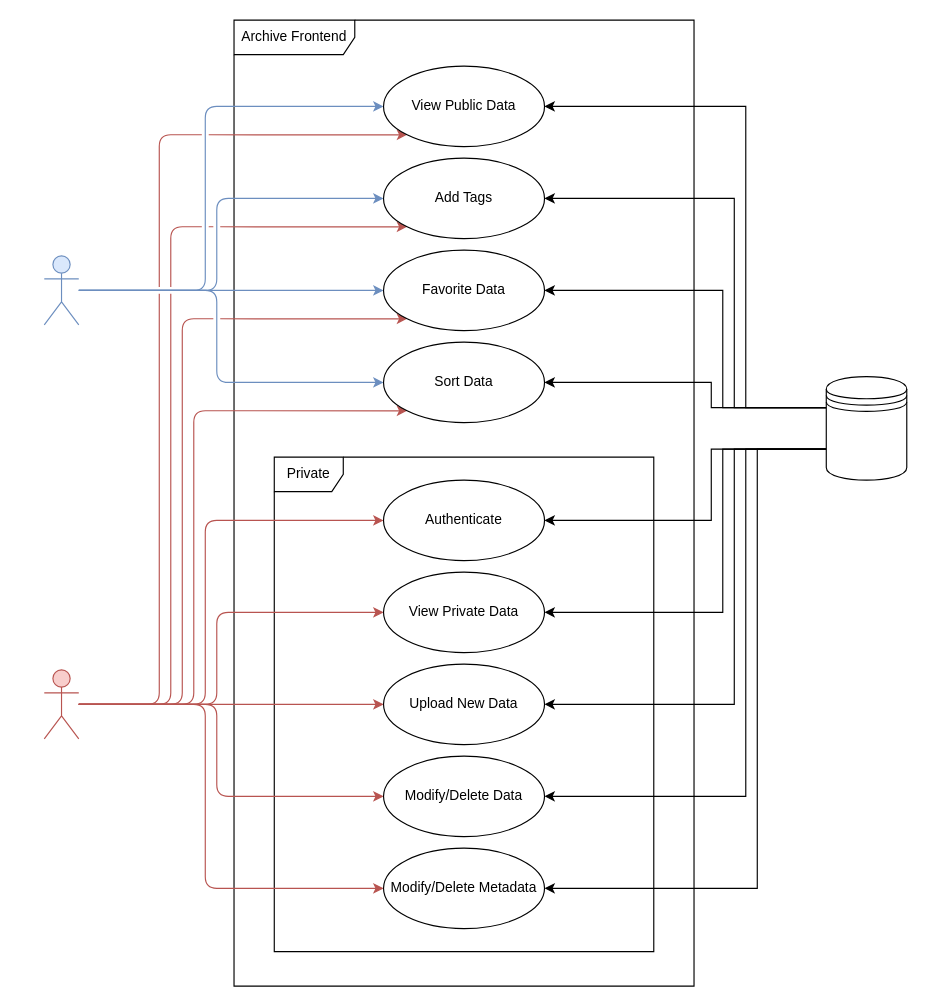
Some shapes in this 927 by 1006 pixel diagram are drawn without their labels. The shapes that lost their labels are listed below. From the top down, each one's centre as x and y in pixels, then its label:
At (61,290): "Public User".
At (866,427): "Database".
At (61,704): "Authenticated User".
